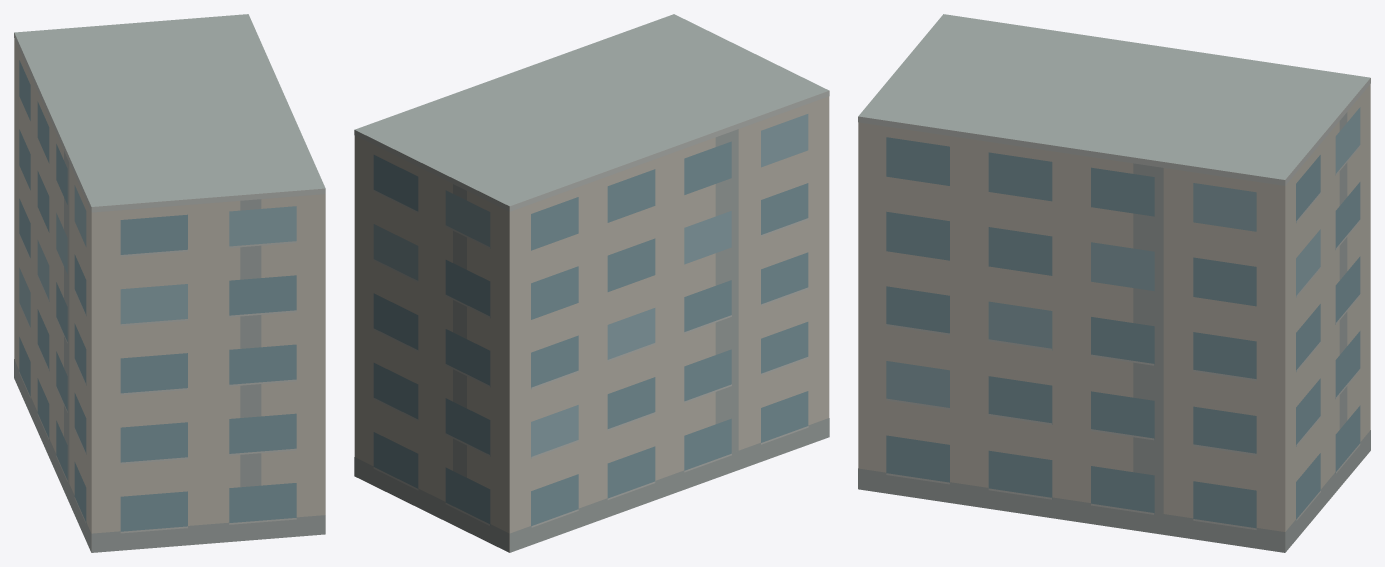
The model's file is residential-9820a766-4328-4bbe-b957-3f0104d5578c.glb.
3 views of the same model, side by side, from view 1: azimuth 30°, elevation 25°; view 2: azimuth 150°, elevation 25°; view 3: azimuth 270°, elevation 25° (orthographic). The views are drawn at different scales.
Parts seen in each view (by area): view 1: residential-9820a766-4328-4bbe-b957-3f0104d5578c.tmp; view 2: residential-9820a766-4328-4bbe-b957-3f0104d5578c.tmp; view 3: residential-9820a766-4328-4bbe-b957-3f0104d5578c.tmp.
Boxes of the visible parts, x1,y1,x2,y2 form: residential-9820a766-4328-4bbe-b957-3f0104d5578c.tmp: (14, 14, 325, 552); residential-9820a766-4328-4bbe-b957-3f0104d5578c.tmp: (354, 14, 829, 552); residential-9820a766-4328-4bbe-b957-3f0104d5578c.tmp: (858, 14, 1370, 552).
Bounding box in the file's own units: 14.57 × 15.25 × 19.01.
